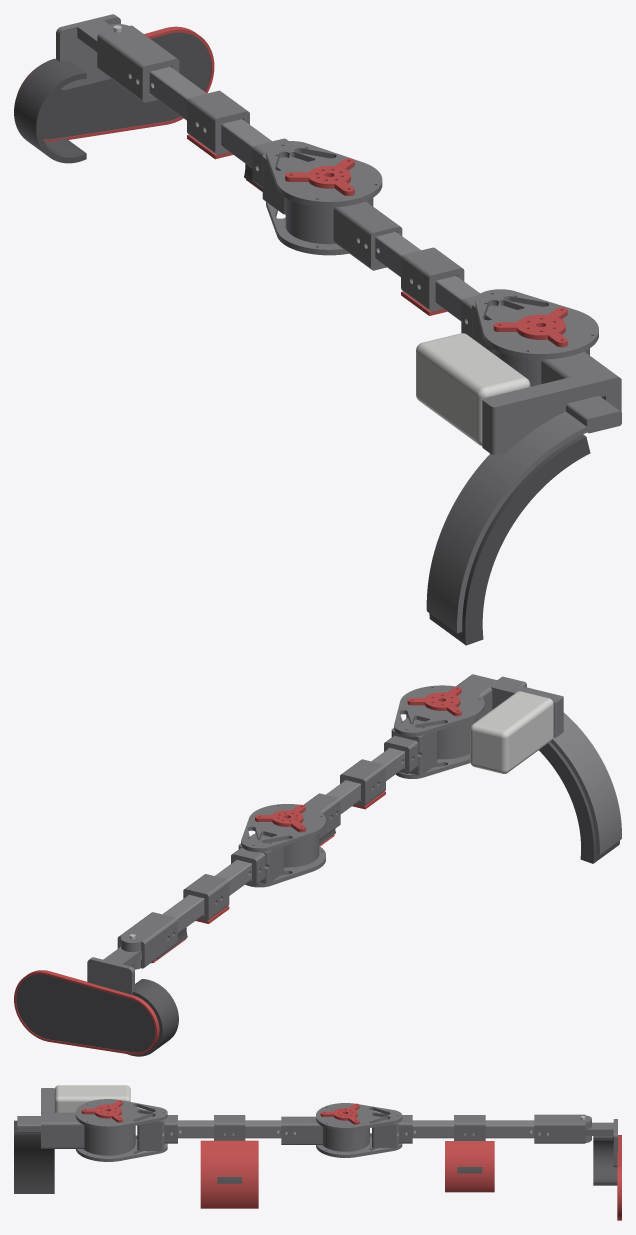
The model's file is exo_ak_left.glb.
The picture shows the model from 3 angles, top to bottom: view 1: azimuth 30°, elevation 25°; view 2: azimuth 150°, elevation 25°; view 3: azimuth 270°, elevation 25°; orthographic projection. The views are drawn at different scales.
Visible parts, largest first — view 1: H髖_腰背支架, A_腳板, H髖_定子杯, H髖_電控盒, H髖_腰背軟墊, H髖_外側板, K膝_定子杯, K膝_外側板, A_踝上座, S_小腿連桿, A_踝擺臂, T_大腿綁帶_夾座 (+8 smaller); view 2: A_腳板, H髖_電控盒, H髖_腰背支架, H髖_定子杯, H髖_外側板, K膝_外側板, A_踝上座, H髖_腰背軟墊, K膝_定子杯, A_踝擺臂, H髖_下夾座, S_小腿連桿 (+9 smaller); view 3: T_大腿綁帶_紅色背板, H髖_定子杯, S_小腿綁帶_紅色背板, H髖_腰背軟墊, K膝_定子杯, S_小腿連桿, H髖_外側板, A_踝上座, H髖_電控盒, K膝_外側板, T_大腿連桿, H髖_下夾座 (+11 smaller).
Boxes of the visible parts, x1,y1,x2,y2 form: H髖_腰背支架: (426,396,621,633); A_腳板: (14,32,211,163); H髖_定子杯: (482,348,621,454); H髖_電控盒: (416,333,530,445); H髖_腰背軟墊: (429,434,590,645); H髖_外側板: (475,289,598,359); K膝_定子杯: (285,198,402,270); K膝_外側板: (266,141,382,207); A_踝上座: (97,24,179,102); S_小腿連桿: (149,66,271,167); A_踝擺臂: (56,14,120,90); T_大腿綁帶_夾座: (401,247,464,311); A_腳板: (16,974,178,1056); H髖_電控盒: (470,691,553,773); H髖_腰背支架: (493,676,621,854); H髖_定子杯: (406,674,563,759); H髖_外側板: (394,685,484,736); K膝_外側板: (241,804,325,852); A_踝上座: (117,912,177,969); H髖_腰背軟墊: (539,742,619,863); K膝_定子杯: (255,793,340,867); A_踝擺臂: (87,947,141,994); H髖_下夾座: (384,718,437,775); S_小腿連桿: (162,860,251,933); T_大腿綁帶_紅色背板: (200,1140,258,1208); H髖_定子杯: (41,1088,135,1155); S_小腿綁帶_紅色背板: (445,1141,494,1192); H髖_腰背軟墊: (14,1120,54,1193); K膝_定子杯: (281,1116,369,1151); S_小腿連桿: (397,1120,549,1138); H髖_外側板: (75,1099,167,1129); A_踝上座: (534,1114,591,1143); H髖_電控盒: (54,1085,130,1112); K膝_外側板: (316,1103,402,1130); T_大腿連桿: (163,1120,296,1138); H髖_下夾座: (137,1110,177,1150).
Bounding box in the file's own units: 335 × 241 × 1076.
